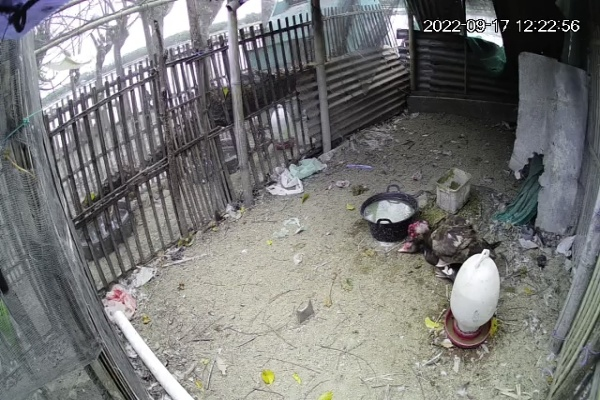Kawin: (388, 212, 505, 284)
